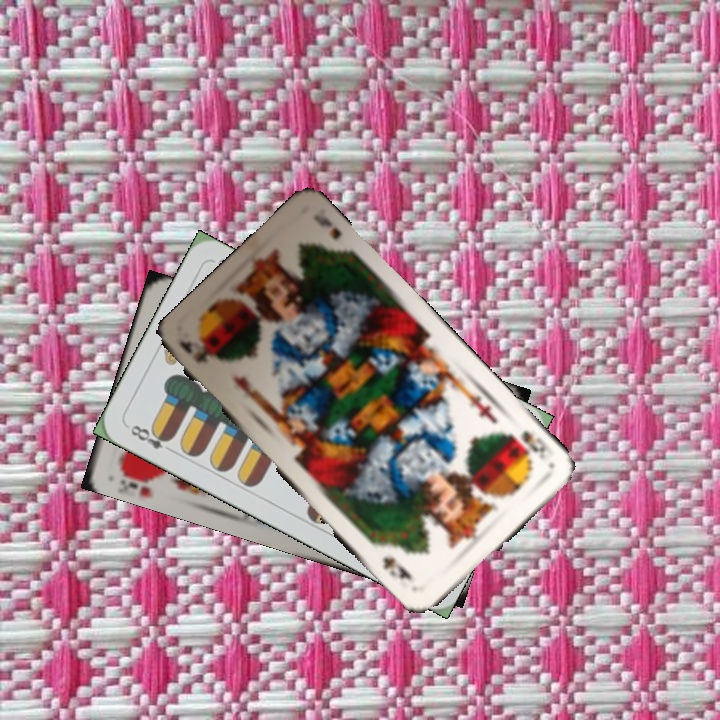E8: (126, 421, 178, 456)
HK: (115, 463, 164, 492)
SK: (505, 426, 549, 463), (175, 337, 211, 366)
